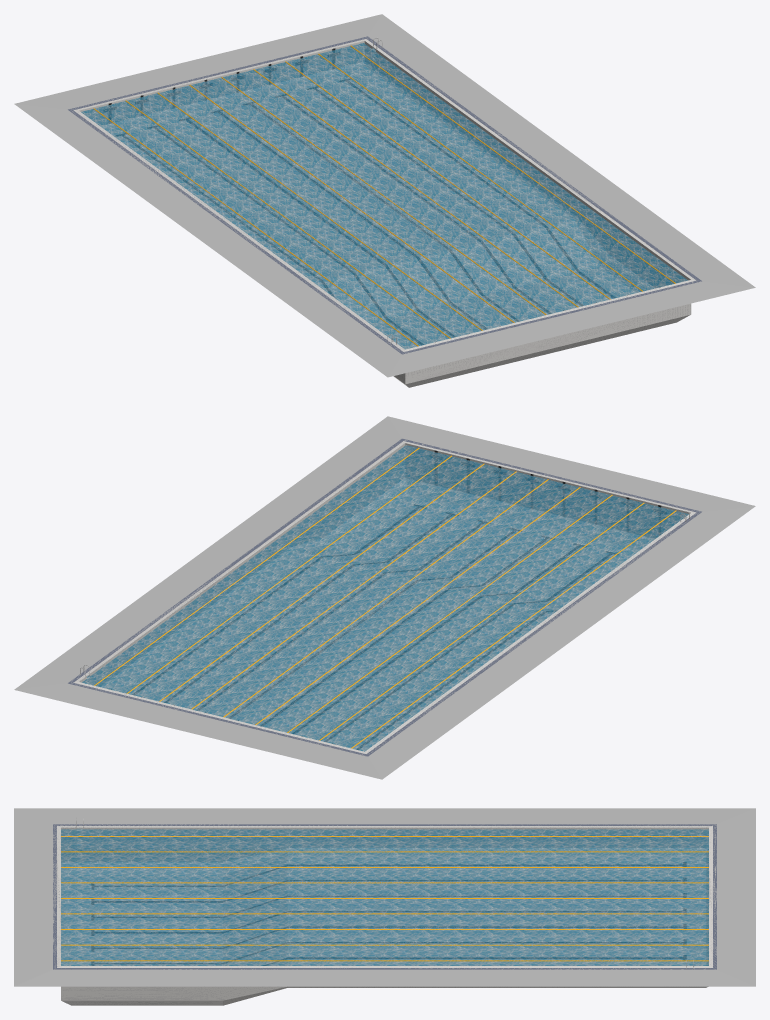
3 renders of one model, top to bottom at view 1: azimuth 30°, elevation 25°; view 2: azimuth 150°, elevation 25°; view 3: azimuth 270°, elevation 25°, orthographic.
Visible parts, largest first — view 1: Swimming_Pool_50m (×5), group_2, lane_marker (×9), lane_paint (×7); view 2: Swimming_Pool_50m (×4), group_2, lane_marker (×9), lane_paint (×7); view 3: Swimming_Pool_50m (×4), group_2, lane_marker (×9), lane_paint (×7).
Part boxes in pixels (bbox=[...]): Swimming_Pool_50m (×5): bbox=[14, 14, 755, 387]; group_2: bbox=[81, 43, 687, 349]; lane_marker (×9): bbox=[93, 45, 675, 346]; lane_paint (×7): bbox=[148, 78, 614, 344]; Swimming_Pool_50m (×4): bbox=[14, 416, 755, 779]; group_2: bbox=[82, 445, 688, 751]; lane_marker (×9): bbox=[94, 448, 676, 748]; lane_paint (×7): bbox=[133, 505, 618, 741]; Swimming_Pool_50m (×4): bbox=[14, 808, 755, 1005]; group_2: bbox=[61, 828, 708, 965]; lane_marker (×9): bbox=[61, 836, 708, 961]; lane_paint (×7): bbox=[92, 862, 685, 965].
Bounding box in the file's own units: 1282 × 2255 × 173.
6 materials, 1 textured.
